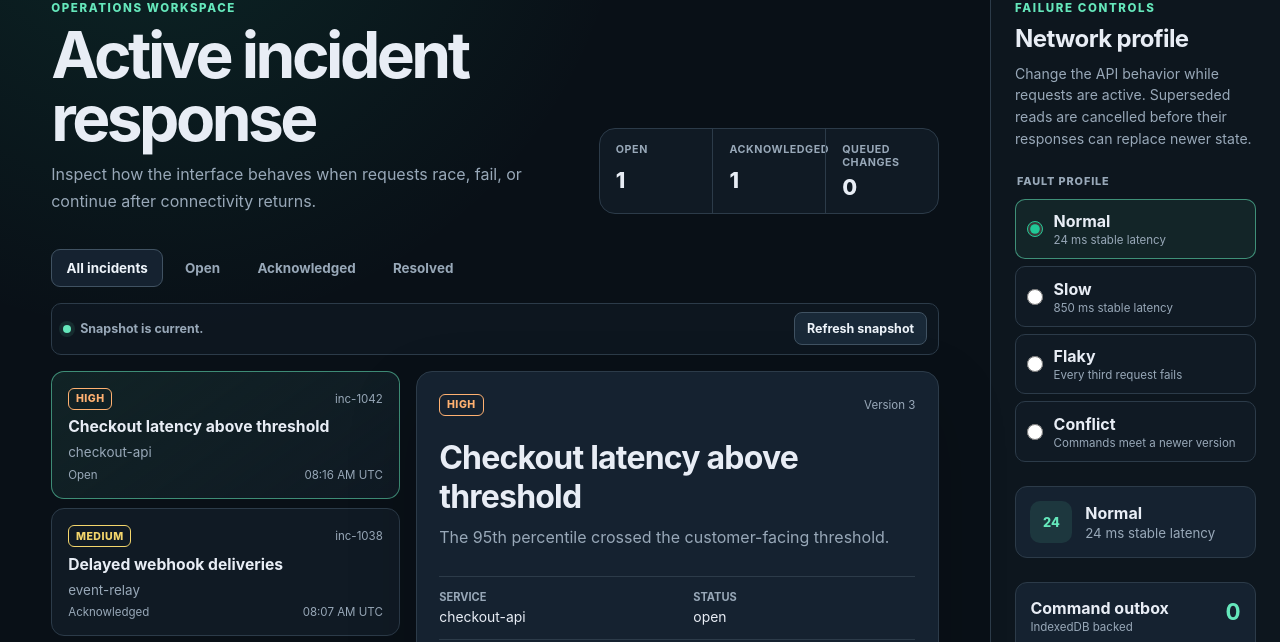
Test case: IncidentConsole › persists an optimistic assignment with its semantic command
Click the button "Delayed webhook deliveries".
click(226, 572)  # box [51,508,400,636]
(page scrolled)
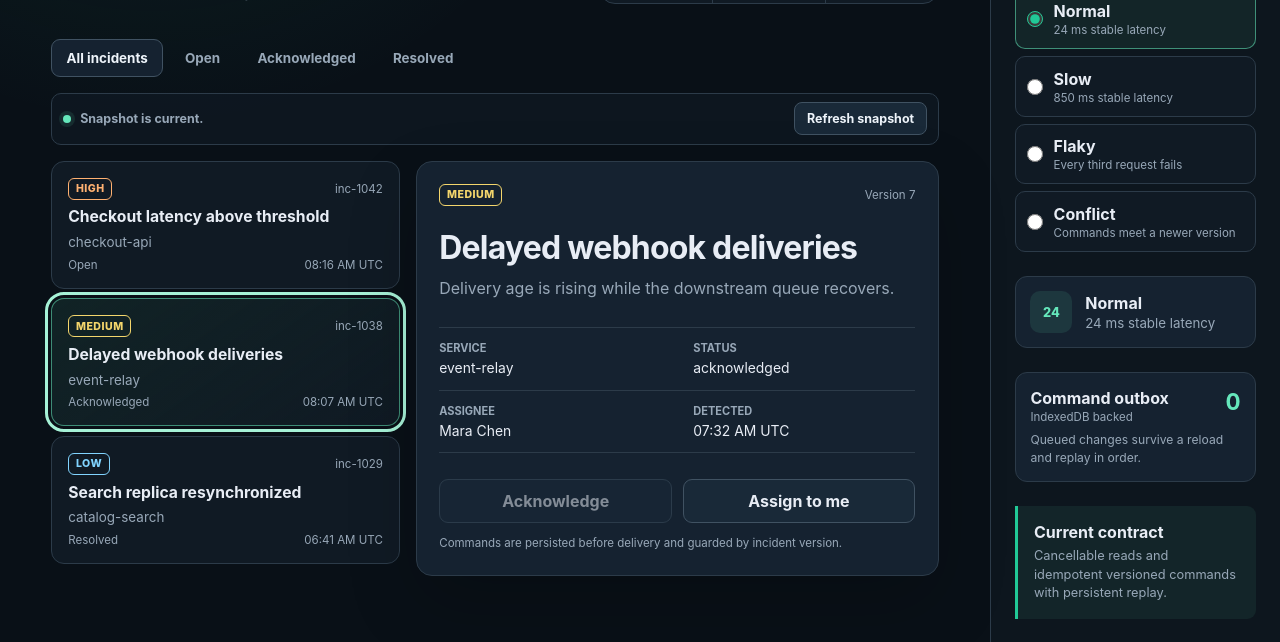
Click the button "Assign to me".
click(799, 501)  # box [682,479,915,524]
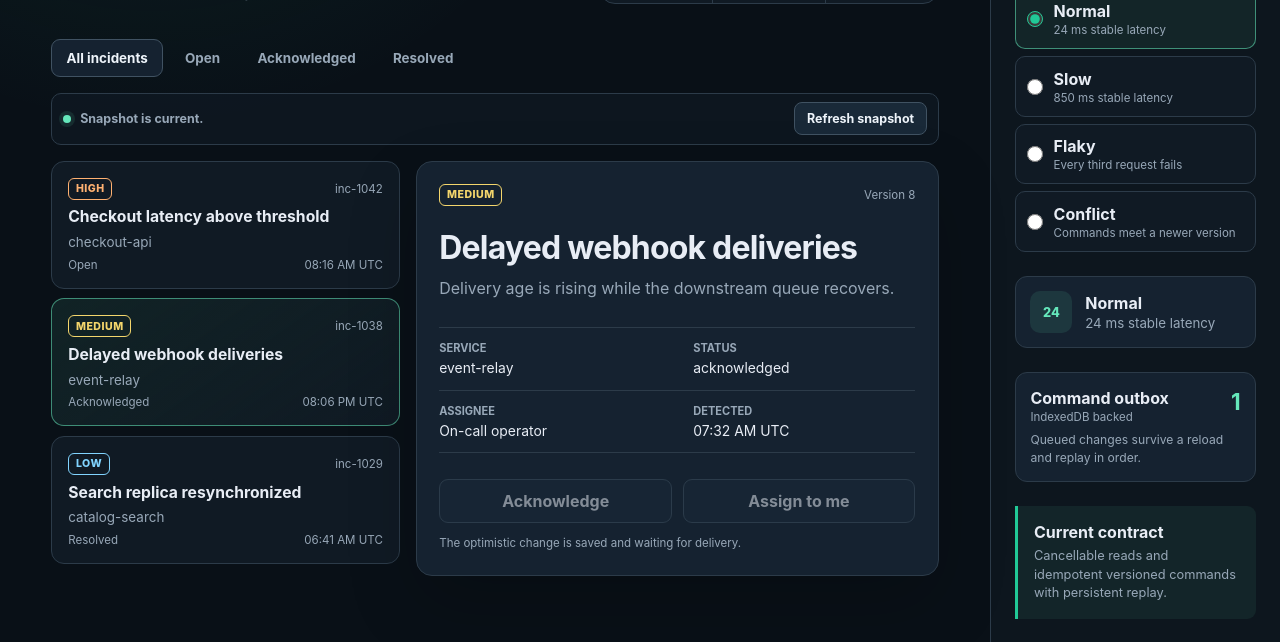
Now the text "The optimistic change is saved and waiting for delivery." is shown, box [439,536,741,550]
